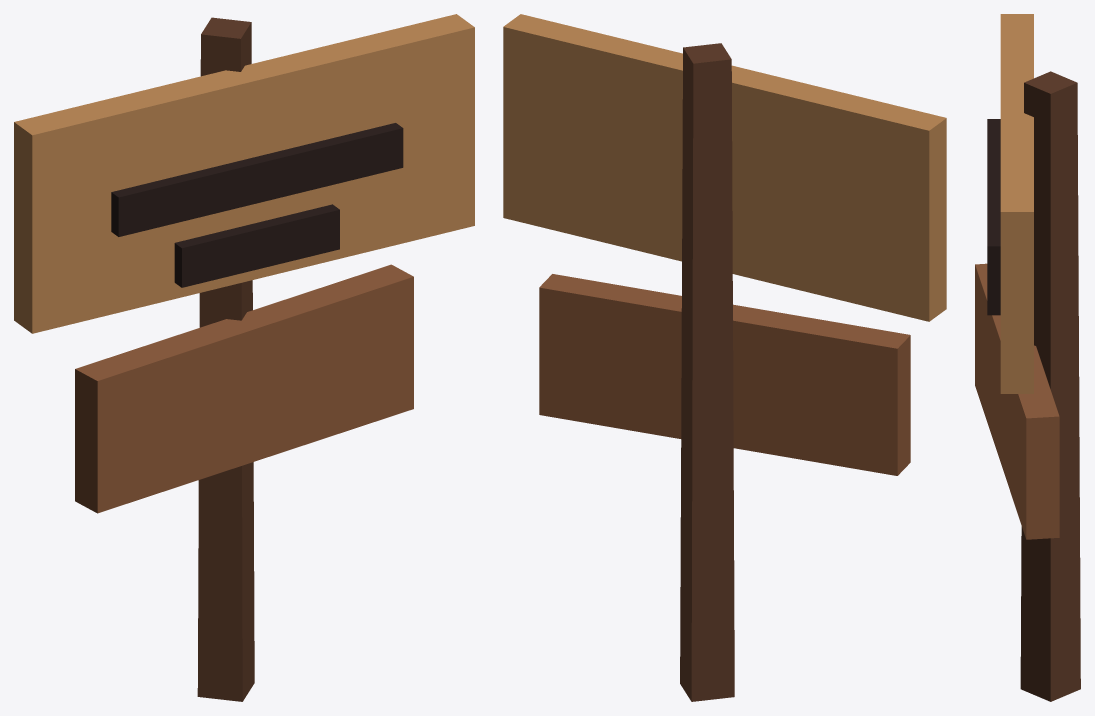
The model's file is CA_Letrero.obj.
3 renders of one model, left to right at view 1: azimuth 30°, elevation 25°; view 2: azimuth 150°, elevation 25°; view 3: azimuth 270°, elevation 25°, orthographic. The views are drawn at different scales.
Parts seen in each view (by area): view 1: CA_Letrero; view 2: CA_Letrero; view 3: CA_Letrero.
Part boxes in pixels (left/top/right/bottom): CA_Letrero: left=14, top=14, right=474, bottom=701; CA_Letrero: left=503, top=14, right=946, bottom=701; CA_Letrero: left=975, top=14, right=1080, bottom=701.
Bounding box in the file's own units: 1.4 × 2 × 0.3161.
